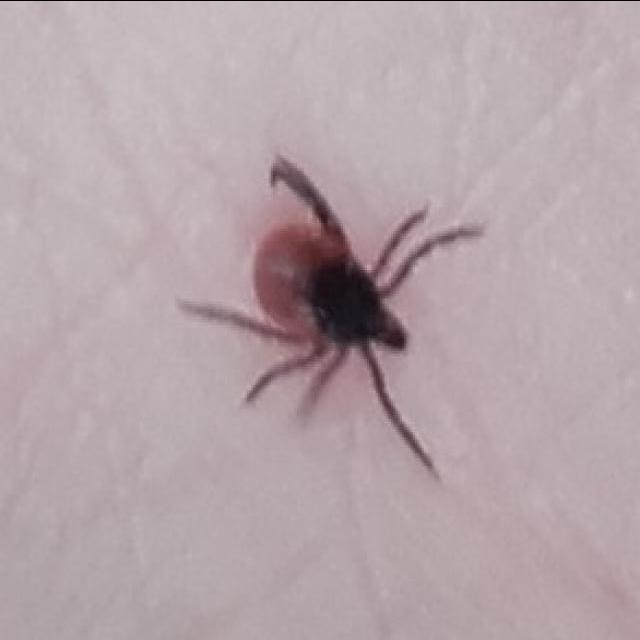Ixodes Ricinus-F: (179, 152, 485, 478)
